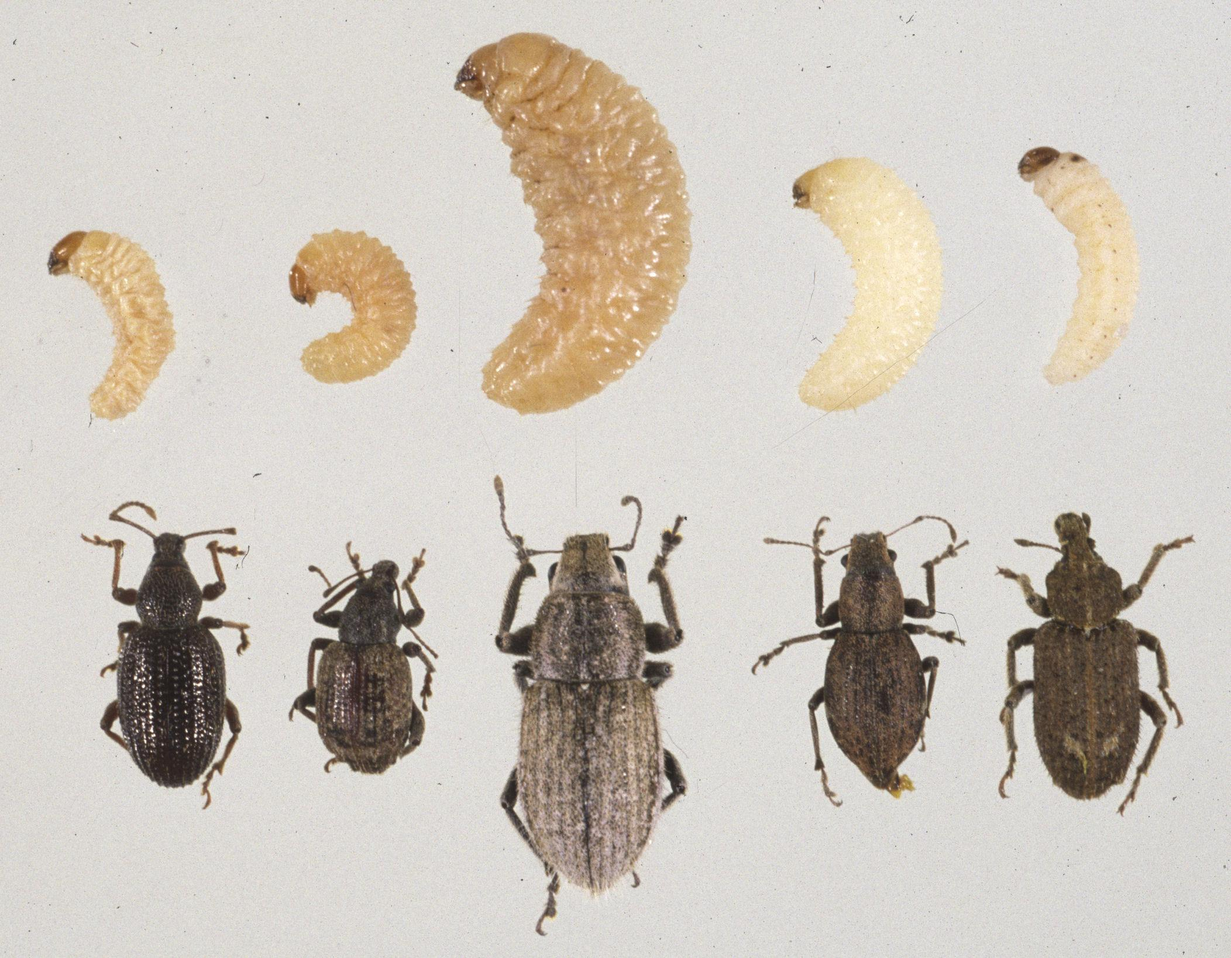Curculionidae: (491, 475, 694, 936), (749, 511, 973, 805), (996, 512, 1198, 816), (80, 499, 250, 806), (286, 540, 445, 778)
